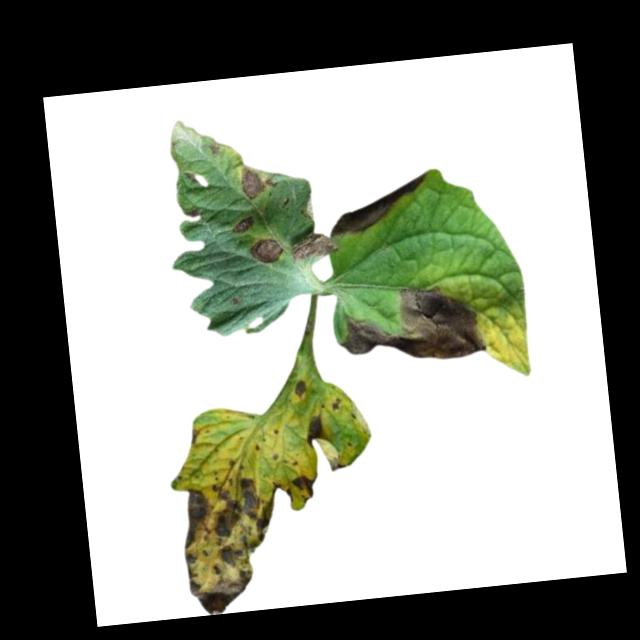Early_blight: (178, 473, 294, 617), (333, 276, 486, 369), (324, 170, 432, 237), (290, 227, 339, 264), (238, 161, 279, 202), (249, 234, 286, 264), (303, 411, 332, 447), (290, 473, 319, 500), (230, 212, 256, 235), (293, 377, 309, 399), (188, 425, 201, 444), (208, 140, 222, 156)
